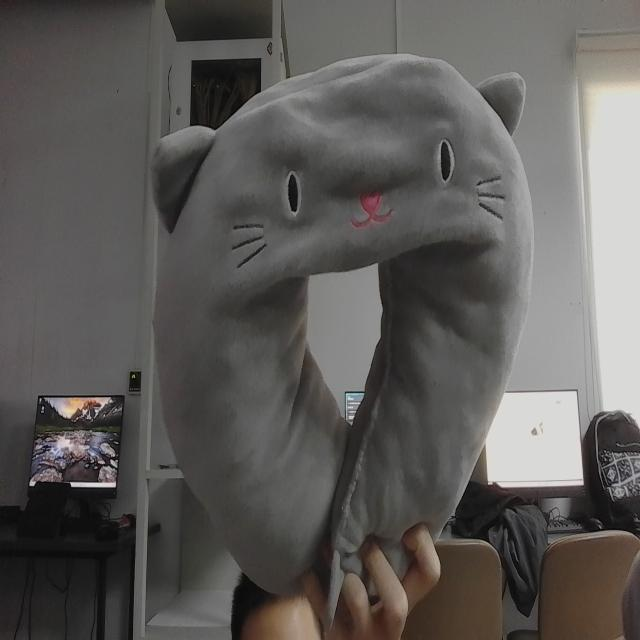pillow: (143, 48, 538, 602)
